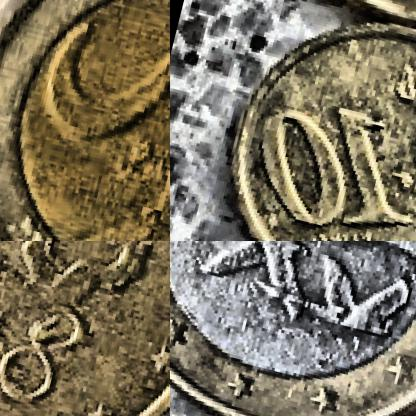coin: (200, 0, 415, 240), (170, 241, 415, 415), (0, 0, 169, 240), (0, 241, 169, 415)
